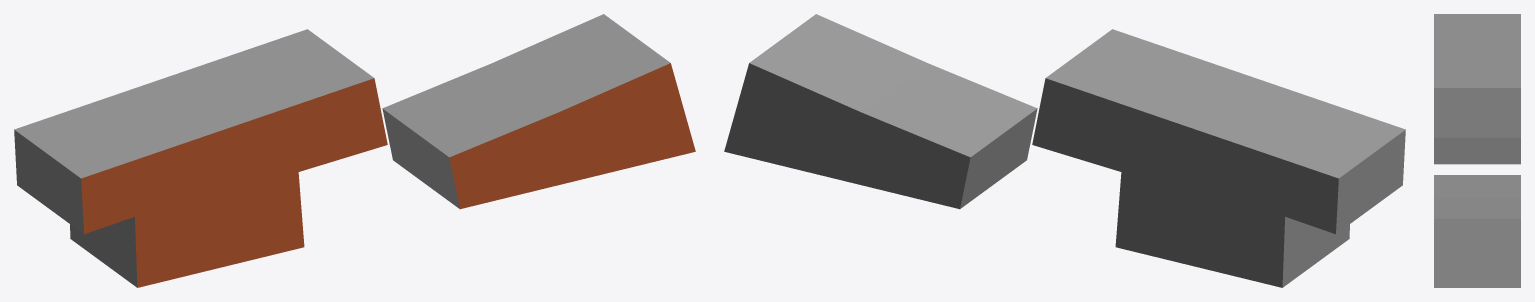
The model's file is construction_2564_assumed_A_Casa_h6m.obj.
The picture shows the model from 3 angles, left to right: view 1: azimuth 30°, elevation 25°; view 2: azimuth 150°, elevation 25°; view 3: azimuth 270°, elevation 25°; orthographic projection. The views are drawn at different scales.
Parts seen in each view (by area): view 1: construction_2564_assumed_A_Casa; view 2: construction_2564_assumed_A_Casa; view 3: construction_2564_assumed_A_Casa.
Boxes of the visible parts, bbox=[...] form: construction_2564_assumed_A_Casa: bbox=[14, 14, 695, 287]; construction_2564_assumed_A_Casa: bbox=[724, 14, 1405, 287]; construction_2564_assumed_A_Casa: bbox=[1434, 14, 1520, 287].
Bounding box in the file's own units: 31.79 × 7.51 × 6.
